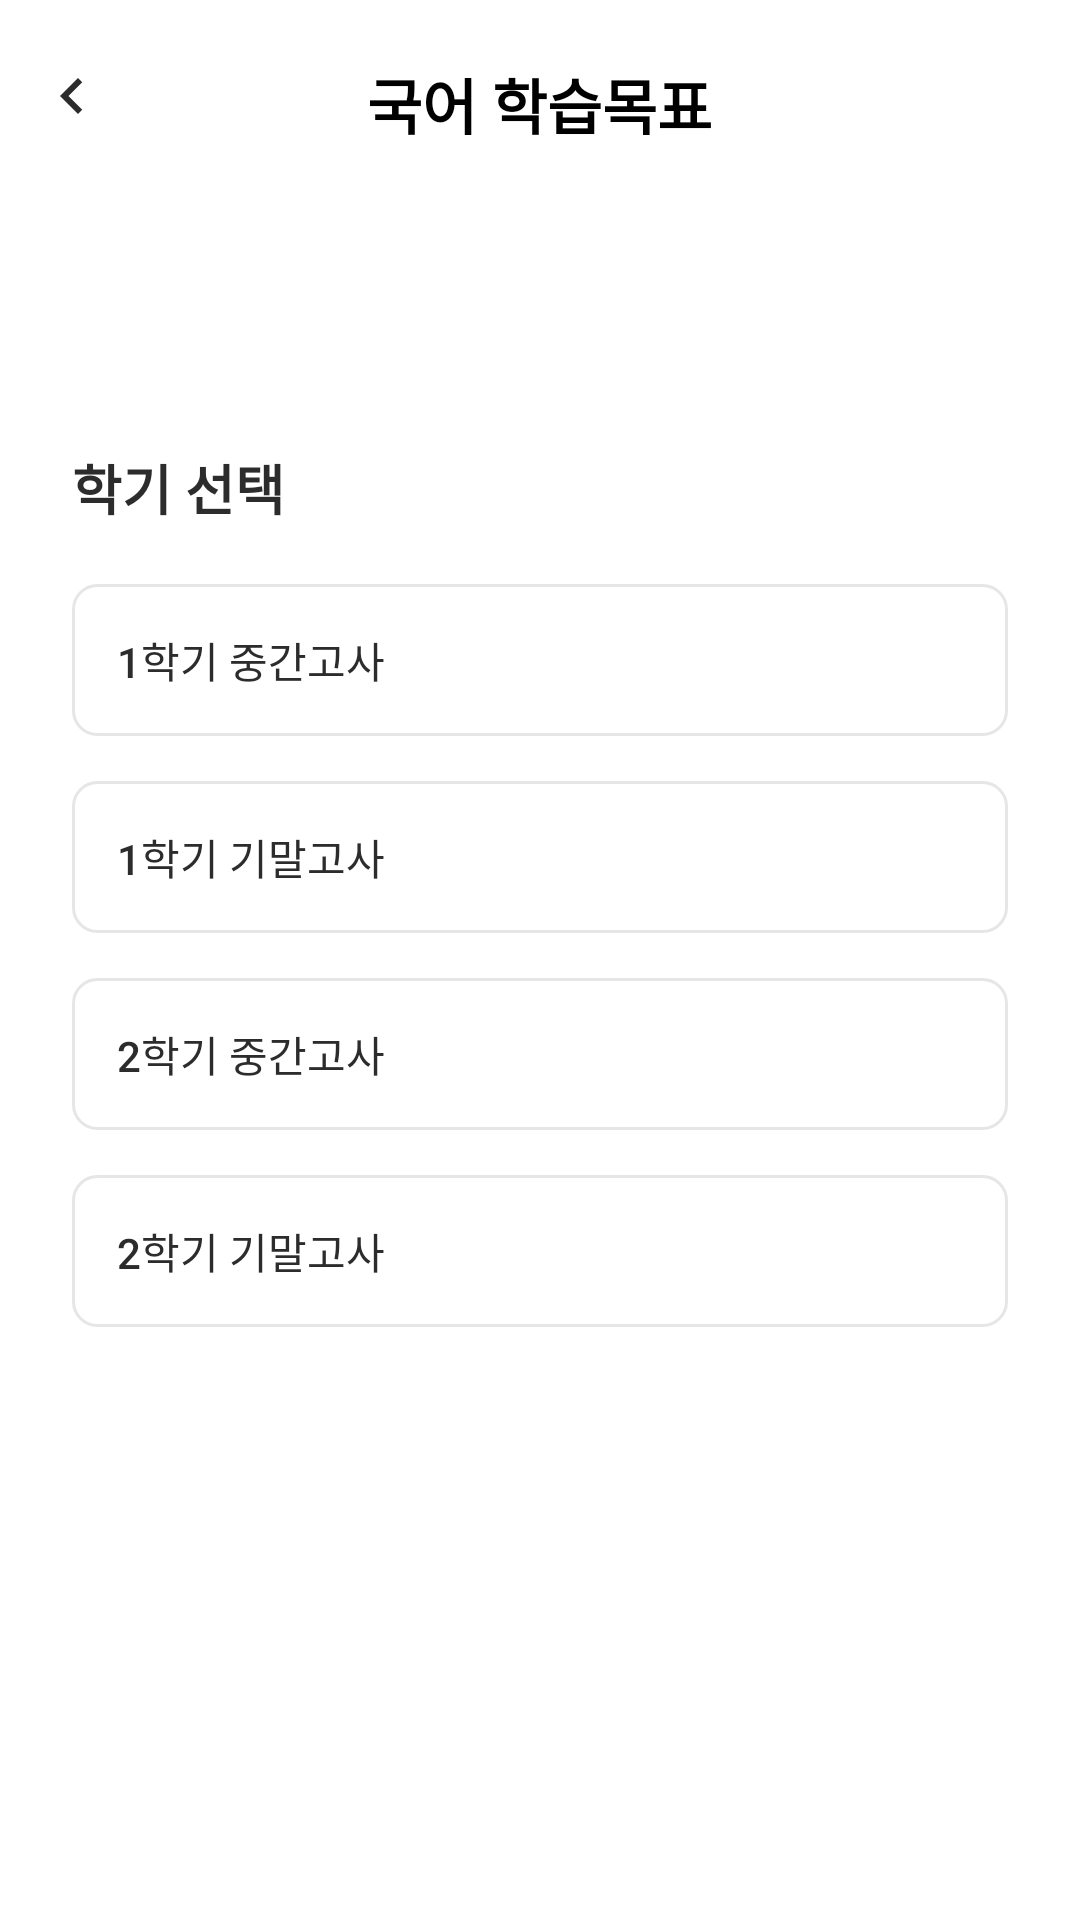

Where icons sit on this 1080×1920 app screen, as bbox(x1, y1, x2, y2):
before: bbox(60, 78, 82, 114)
